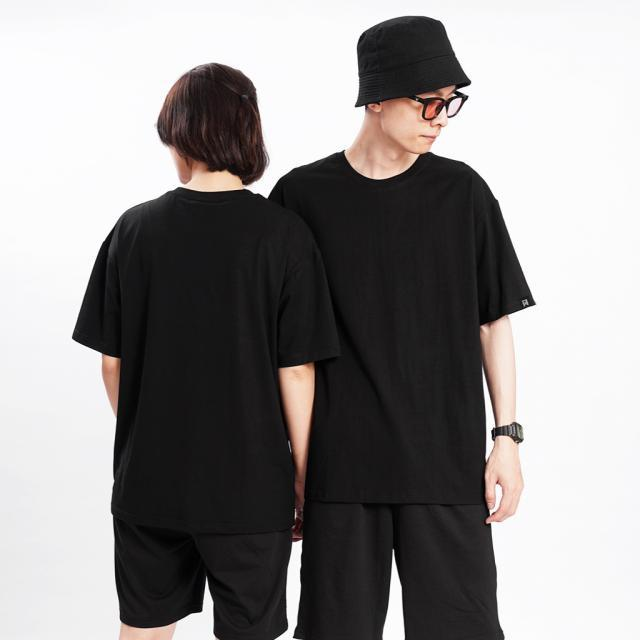Shirt: (225, 148, 540, 506), (70, 180, 338, 495)
